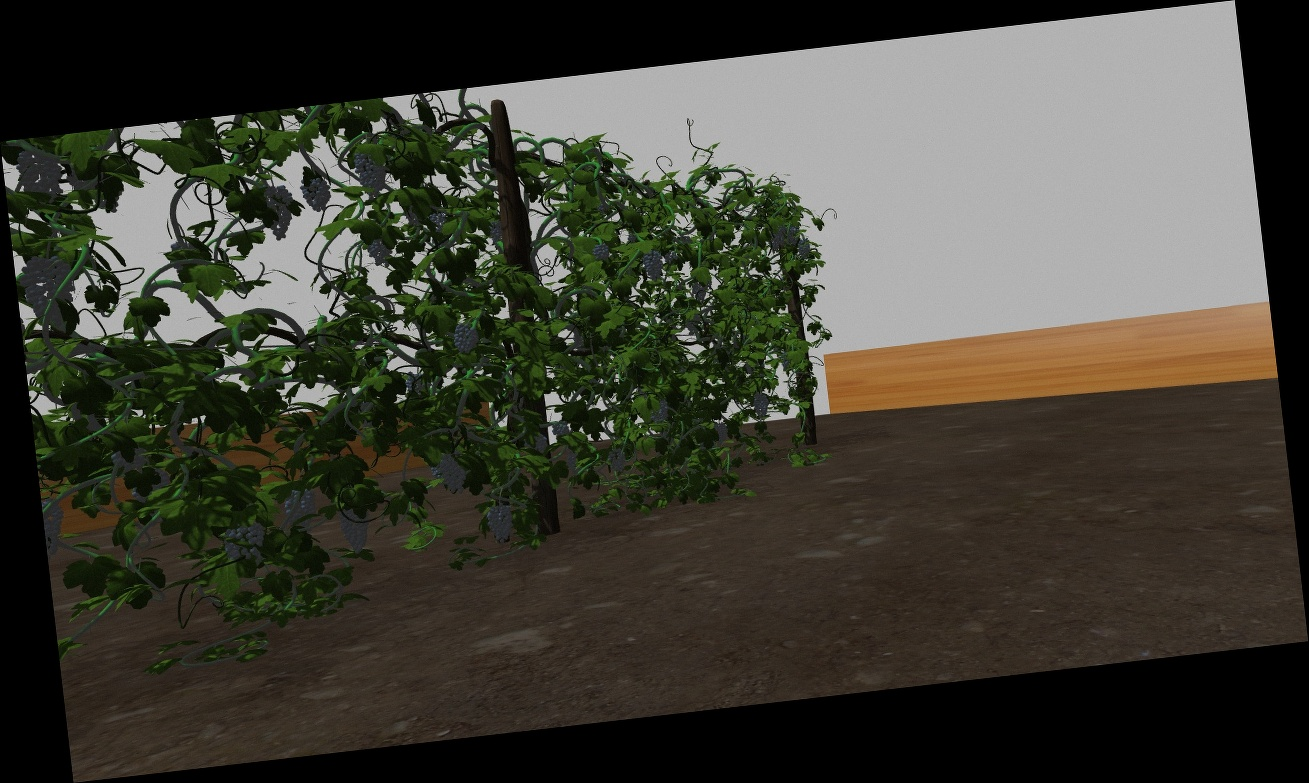grape: (22, 255, 73, 318), (16, 147, 63, 197), (263, 183, 294, 240), (222, 525, 266, 563), (355, 147, 386, 198), (283, 486, 318, 529), (341, 507, 372, 555), (437, 451, 466, 492), (46, 498, 66, 556), (300, 176, 332, 211), (487, 503, 515, 541), (364, 232, 393, 266), (111, 447, 146, 474), (453, 321, 479, 353), (645, 251, 664, 282), (524, 432, 548, 454), (608, 447, 627, 474), (651, 399, 670, 424), (753, 393, 769, 419), (713, 421, 728, 446), (772, 222, 787, 247), (551, 419, 570, 437), (592, 243, 610, 261), (489, 221, 502, 244), (787, 224, 801, 245), (797, 238, 810, 257), (664, 250, 678, 265)
